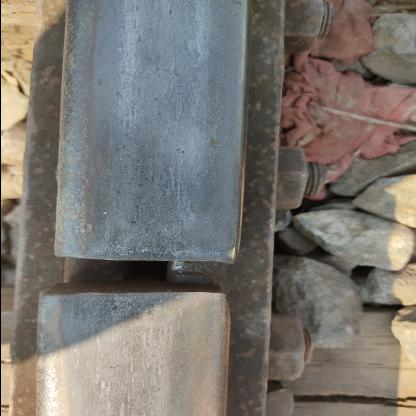Non Defective 2: (0, 170, 306, 362)
